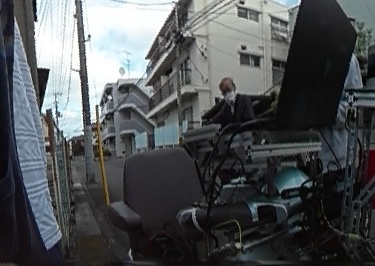person: (206, 78, 253, 127)
